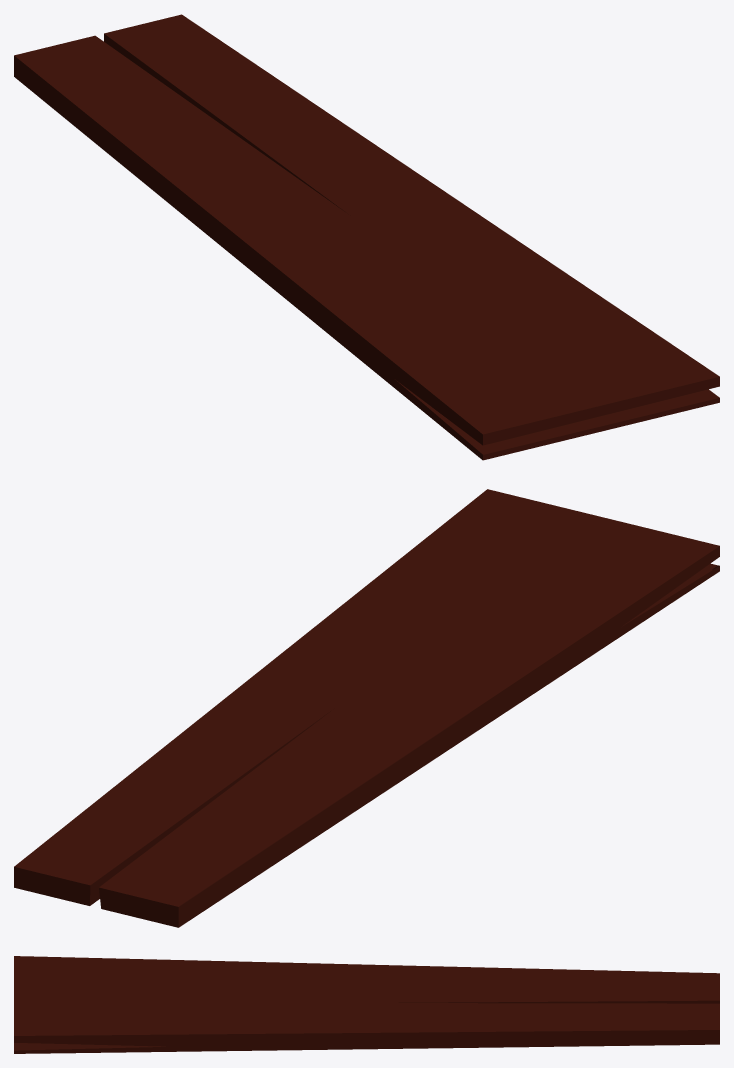
File: plank-cracked-1.fbx
3 views of the same model, one above another, from view 1: azimuth 30°, elevation 25°; view 2: azimuth 150°, elevation 25°; view 3: azimuth 270°, elevation 25° (orthographic). The views are drawn at different scales.
Visible parts, largest first — view 1: plank; view 2: plank; view 3: plank.
Part boxes in pixels (bbox=[...]): plank: bbox=[14, 14, 719, 460]; plank: bbox=[14, 489, 719, 927]; plank: bbox=[14, 956, 719, 1053].
Size of the model in its own units: 64.36 by 6.74 by 240.
